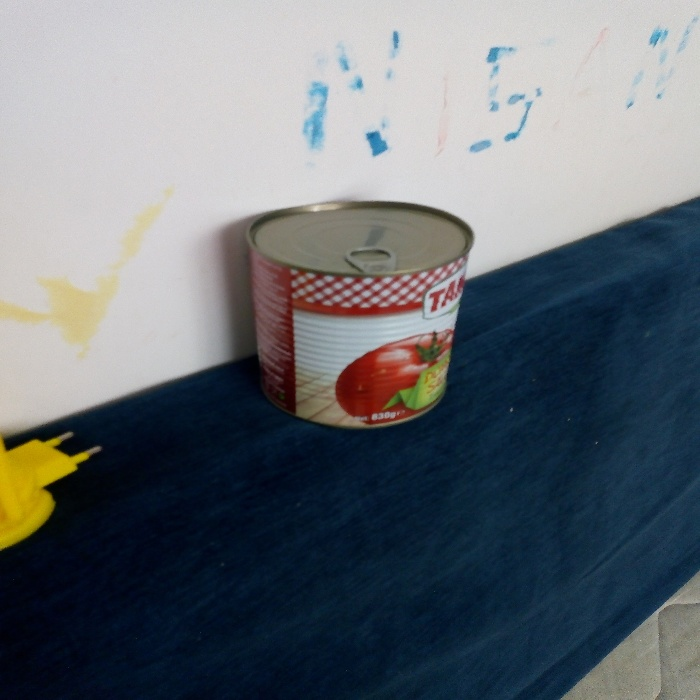salca: (217, 174, 476, 423)
